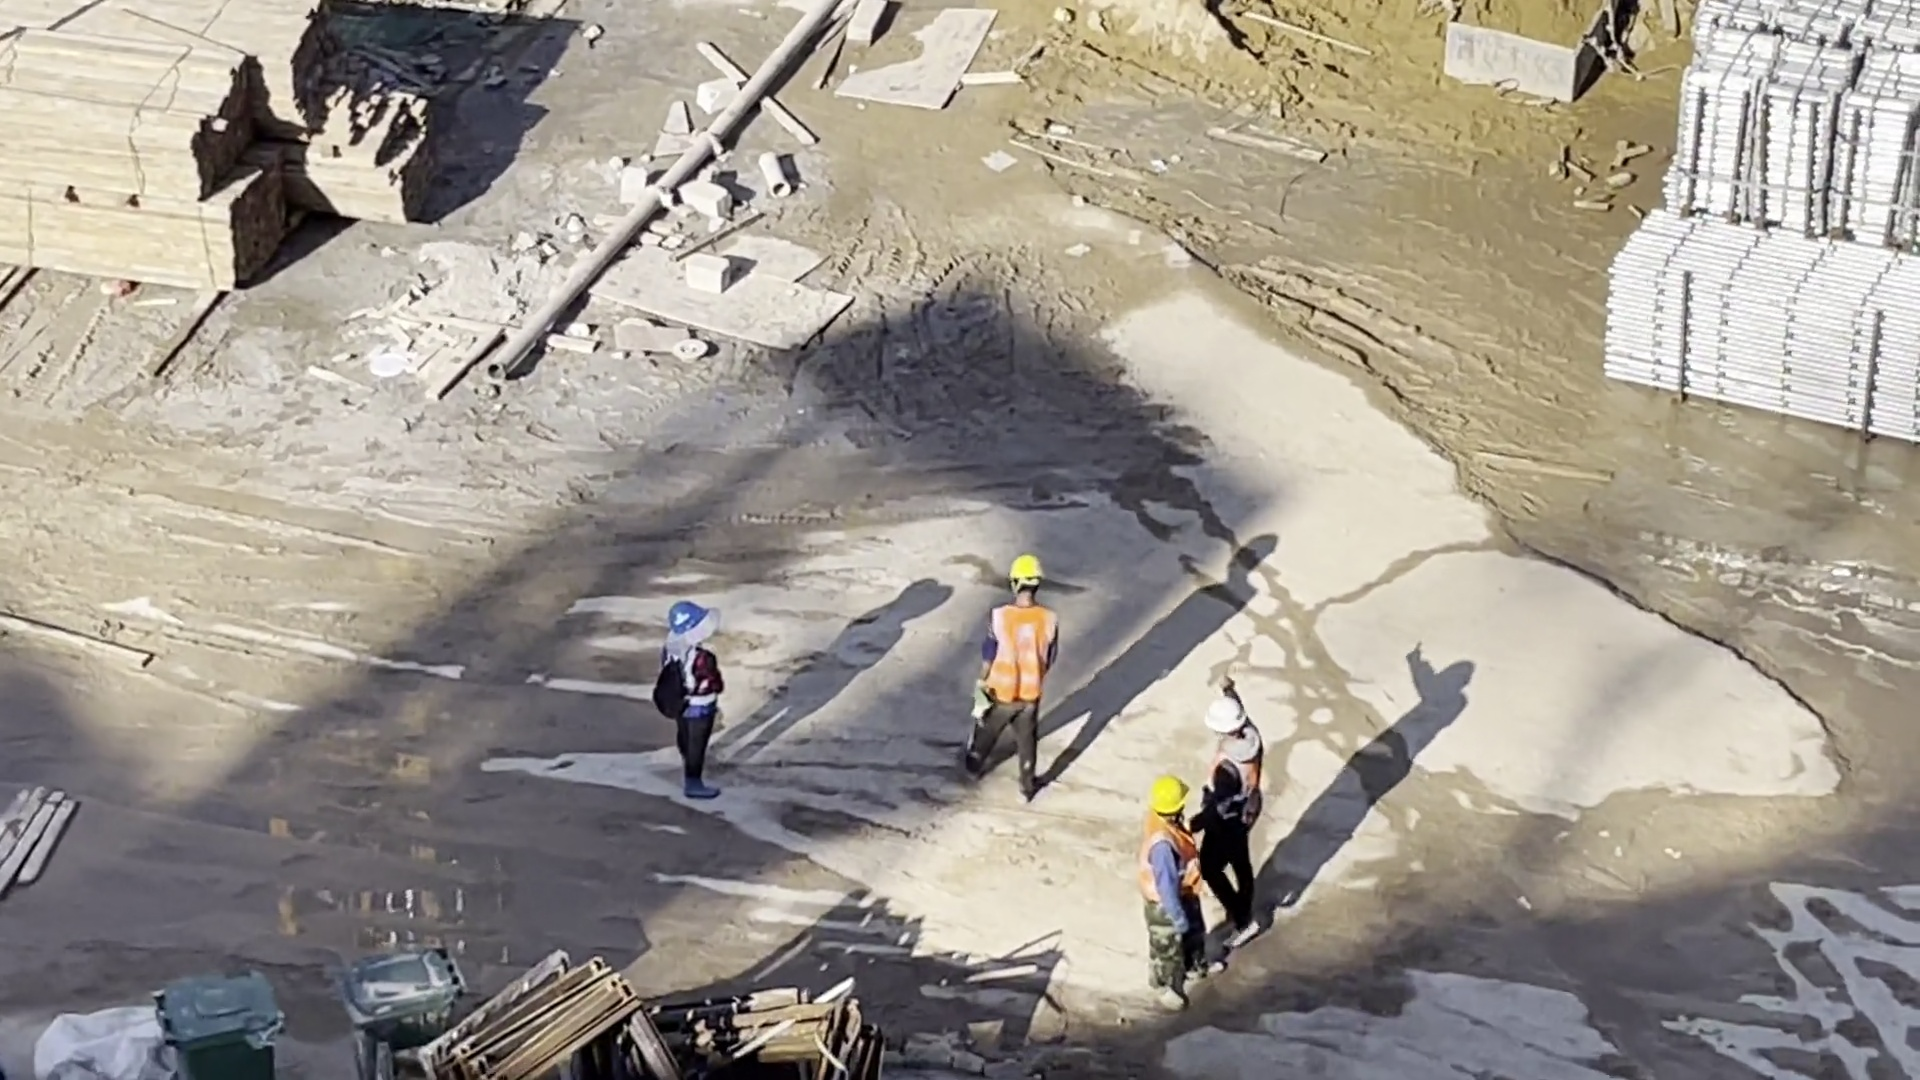helmet: (1201, 695, 1248, 734), (1152, 777, 1192, 819), (673, 601, 706, 634), (1012, 560, 1043, 585)
hopper: (1441, 1, 1631, 103)
person: (967, 557, 1052, 796), (1201, 700, 1259, 951), (1147, 779, 1211, 1003), (666, 606, 728, 797)
scaffold: (1611, 216, 1920, 441), (1670, 4, 1920, 239)
vest: (989, 603, 1054, 708), (1147, 823, 1202, 900), (677, 643, 719, 720)
wood: (1, 33, 283, 284), (1, 3, 324, 127)
